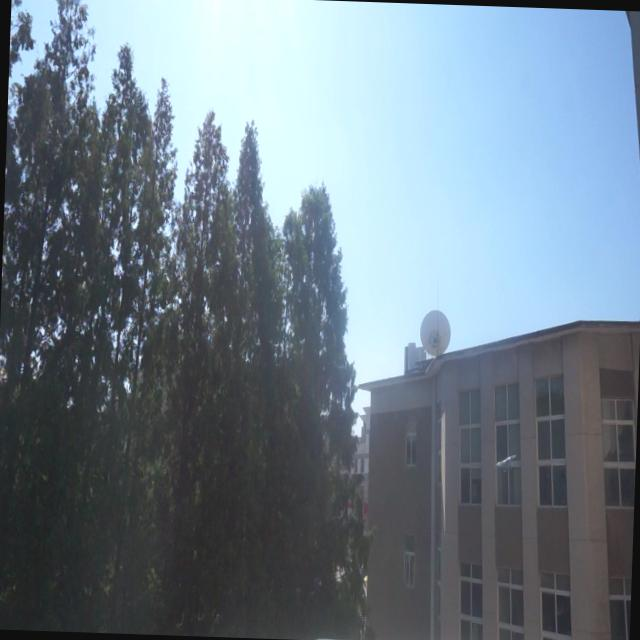drone: (494, 449, 518, 474)
